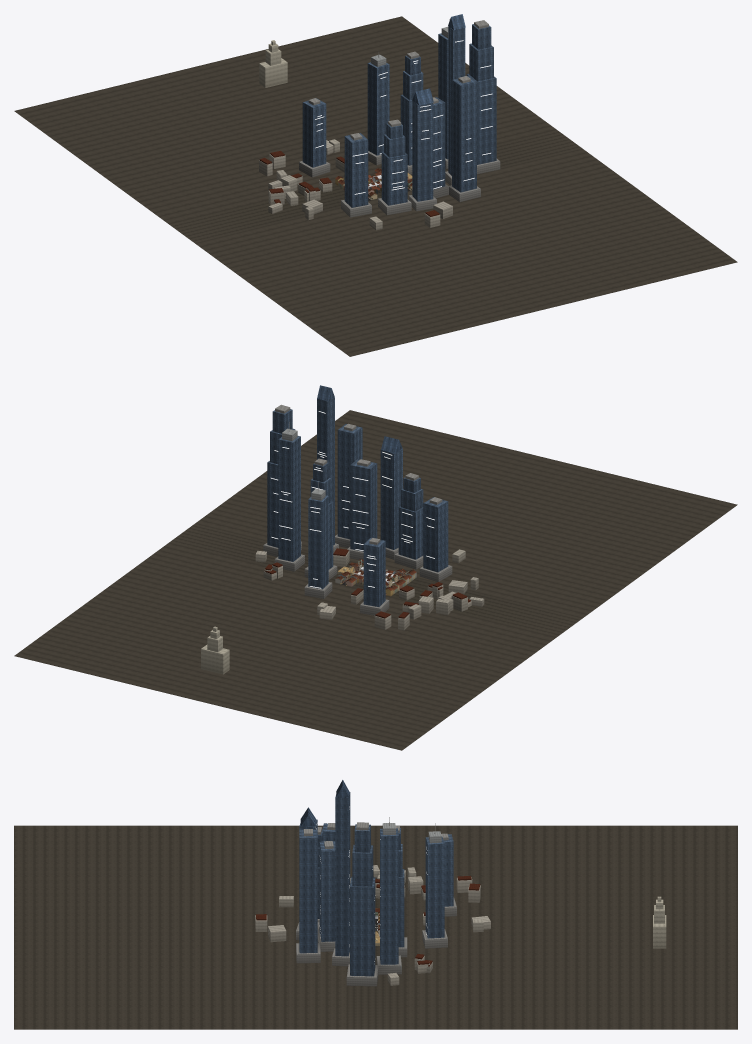
Rendered from ww2-street-mobile.glb.
The picture shows the model from 3 angles, top to bottom: view 1: azimuth 30°, elevation 25°; view 2: azimuth 150°, elevation 25°; view 3: azimuth 270°, elevation 25°; orthographic projection. The views are drawn at different scales.
Parts seen in each view (by area): view 1: Backdrop_Far, NOW_Skyline; view 2: Backdrop_Far, NOW_Skyline; view 3: Backdrop_Far, NOW_Skyline.
Part boxes in pixels (left/top/right/bottom): Backdrop_Far: left=14, top=16, right=737, bottom=356; NOW_Skyline: left=299, top=14, right=500, bottom=217; Backdrop_Far: left=14, top=410, right=737, bottom=750; NOW_Skyline: left=263, top=385, right=452, bottom=615; Backdrop_Far: left=14, top=825, right=737, bottom=1029; NOW_Skyline: left=296, top=780, right=456, bottom=986.
Bounding box in the file's own units: 800 × 328 × 1200.
17 materials, 15 textured.
